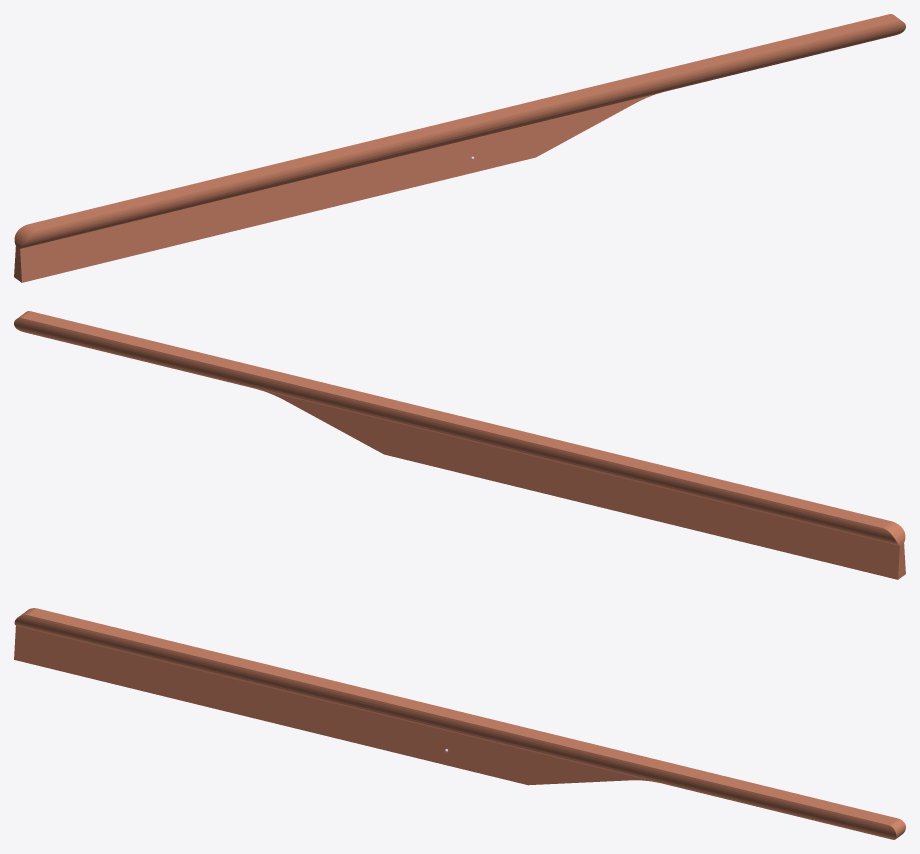
Rendered from 197 pvd r gold.glb.
The picture shows the model from 3 angles, top to bottom: view 1: azimuth 30°, elevation 25°; view 2: azimuth 150°, elevation 25°; view 3: azimuth 330°, elevation 25°; orthographic projection.
Visible parts, largest first — view 1: CABINET_HANDLE_197; view 2: CABINET_HANDLE_197; view 3: CABINET_HANDLE_197.
Boxes of the visible parts, x1,y1,x2,y2 form: CABINET_HANDLE_197: [14, 14, 905, 282]; CABINET_HANDLE_197: [14, 311, 905, 579]; CABINET_HANDLE_197: [14, 608, 905, 839].
Bounding box in the file's own units: 17.72 × 0.9334 × 0.6563.
